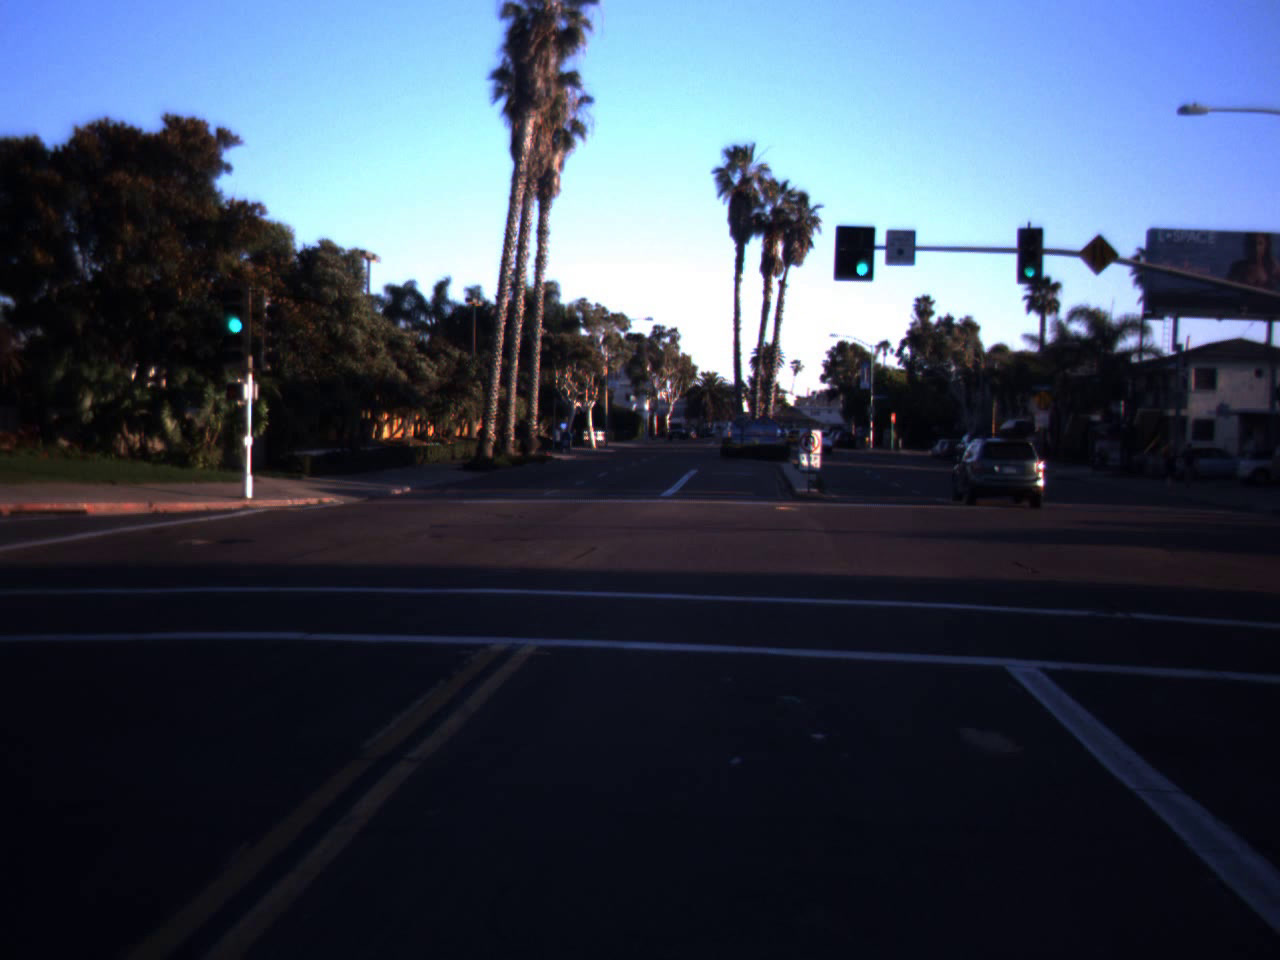go: (217, 273, 253, 338), (847, 225, 877, 280), (1023, 253, 1038, 278)
